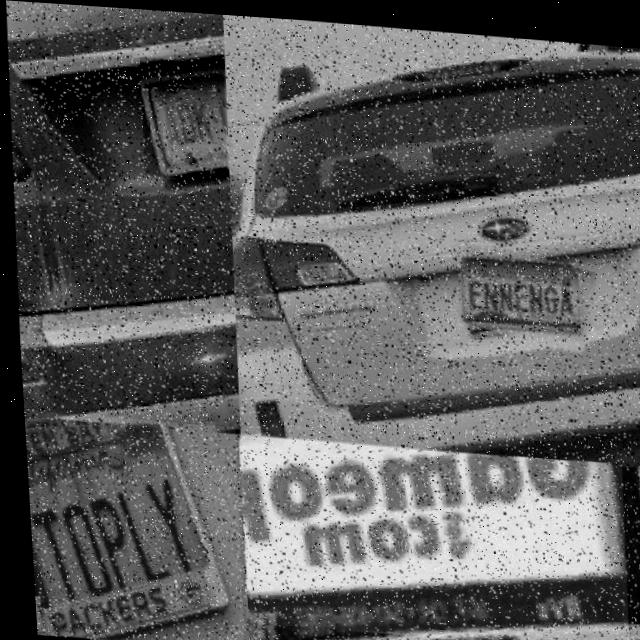LicensePlate: (230, 430, 625, 640), (19, 409, 240, 640), (237, 593, 640, 640), (140, 61, 225, 175), (457, 257, 583, 322)
